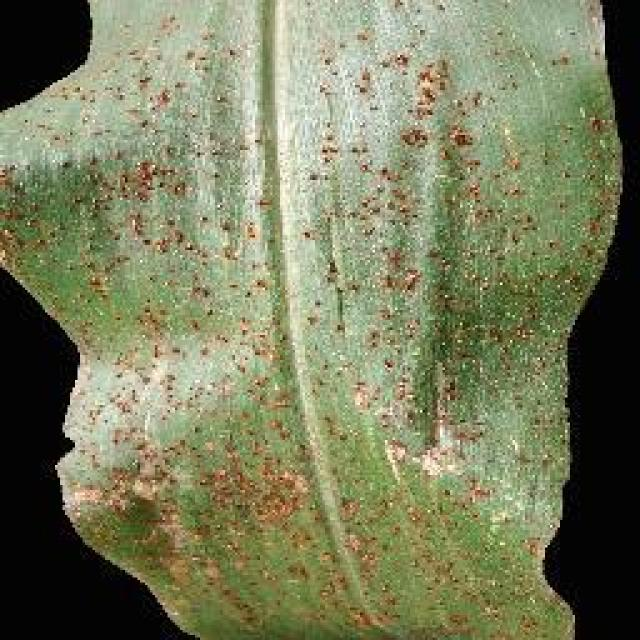Corn Common Rust: (73, 30, 560, 615)
